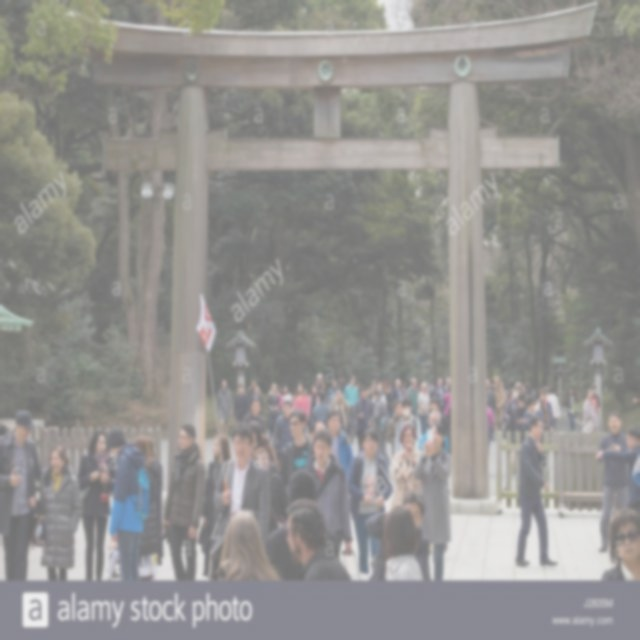pessoa: (264, 468, 342, 582), (210, 422, 272, 564), (0, 409, 48, 581), (27, 444, 84, 581), (160, 422, 208, 580), (513, 412, 560, 567), (346, 427, 394, 575), (106, 426, 151, 582), (302, 427, 354, 560), (411, 420, 453, 582), (76, 428, 117, 582), (364, 490, 432, 582), (106, 429, 145, 582), (284, 497, 352, 580), (196, 434, 232, 582), (214, 509, 284, 582), (232, 426, 272, 551), (596, 409, 630, 554), (594, 424, 640, 516), (249, 445, 291, 538), (243, 428, 271, 554), (381, 504, 426, 581), (388, 422, 424, 510), (599, 507, 640, 582), (279, 408, 315, 488), (500, 391, 528, 492), (323, 407, 354, 478), (367, 388, 392, 470), (393, 396, 423, 456), (353, 385, 376, 454), (417, 410, 450, 458), (271, 400, 295, 464), (342, 372, 360, 445), (384, 398, 404, 462), (502, 384, 524, 440), (264, 381, 282, 444), (215, 377, 233, 438), (292, 381, 310, 436), (310, 388, 332, 433), (242, 398, 268, 436), (330, 388, 351, 433), (520, 393, 544, 432), (491, 374, 505, 440), (416, 381, 432, 436), (582, 387, 600, 435), (502, 376, 550, 394), (428, 396, 448, 436), (233, 383, 250, 430), (566, 386, 582, 432), (538, 388, 554, 434), (546, 386, 562, 432), (404, 377, 420, 422), (486, 378, 497, 441), (306, 383, 320, 432), (432, 376, 448, 414), (486, 397, 496, 456), (536, 397, 552, 431), (248, 384, 264, 416), (390, 378, 403, 414), (548, 385, 560, 423), (630, 450, 640, 495), (280, 384, 294, 416), (381, 382, 392, 422), (310, 418, 328, 442), (245, 377, 262, 402), (327, 378, 342, 403), (372, 382, 387, 406), (316, 378, 328, 406), (442, 377, 452, 410), (590, 382, 602, 409), (590, 386, 600, 417), (275, 383, 284, 416), (293, 380, 309, 398), (498, 378, 509, 404), (444, 384, 452, 419), (146, 434, 156, 458), (388, 384, 394, 420), (311, 373, 323, 390), (506, 386, 516, 404), (338, 375, 347, 393), (0, 423, 8, 441), (426, 382, 433, 394), (373, 378, 380, 389), (631, 396, 640, 404), (367, 384, 373, 396), (400, 384, 405, 398), (388, 376, 394, 386), (383, 376, 389, 386), (356, 380, 362, 388), (249, 420, 260, 424), (379, 378, 384, 386), (278, 388, 284, 393), (417, 388, 422, 393)
